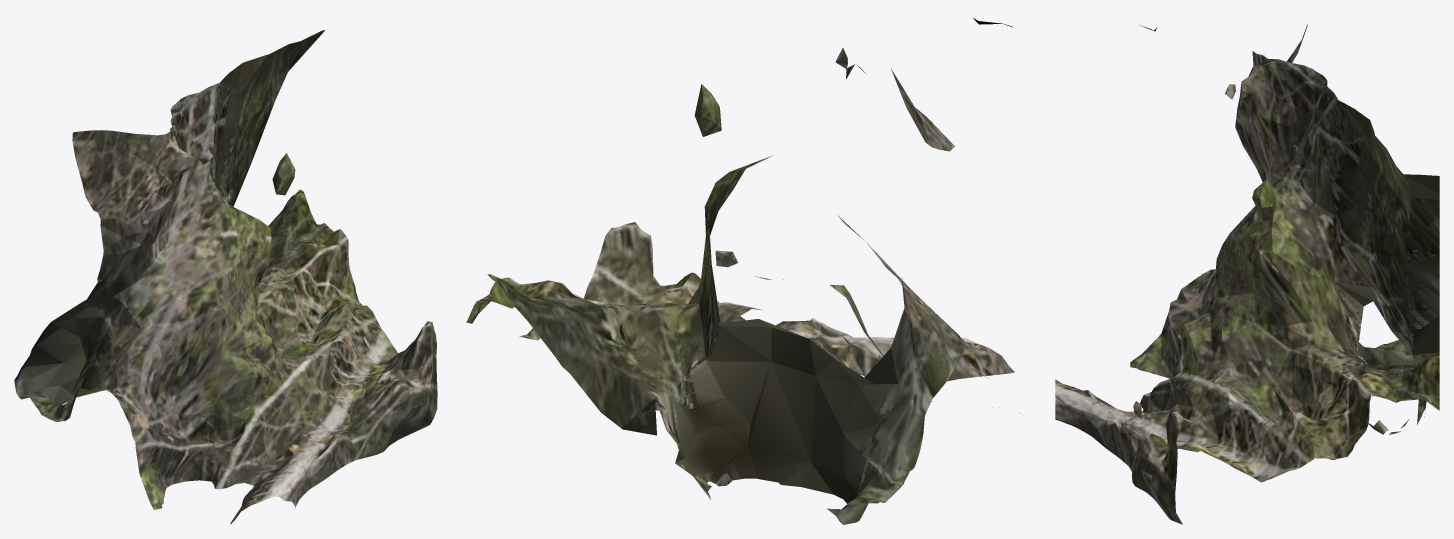
3 views of the same model, side by side, from view 1: azimuth 30°, elevation 25°; view 2: azimuth 150°, elevation 25°; view 3: azimuth 270°, elevation 25° (orthographic). The views are drawn at different scales.
Size of the model in its own units: 2.95 by 2.95 by 2.95.
5 materials, 5 textured.
